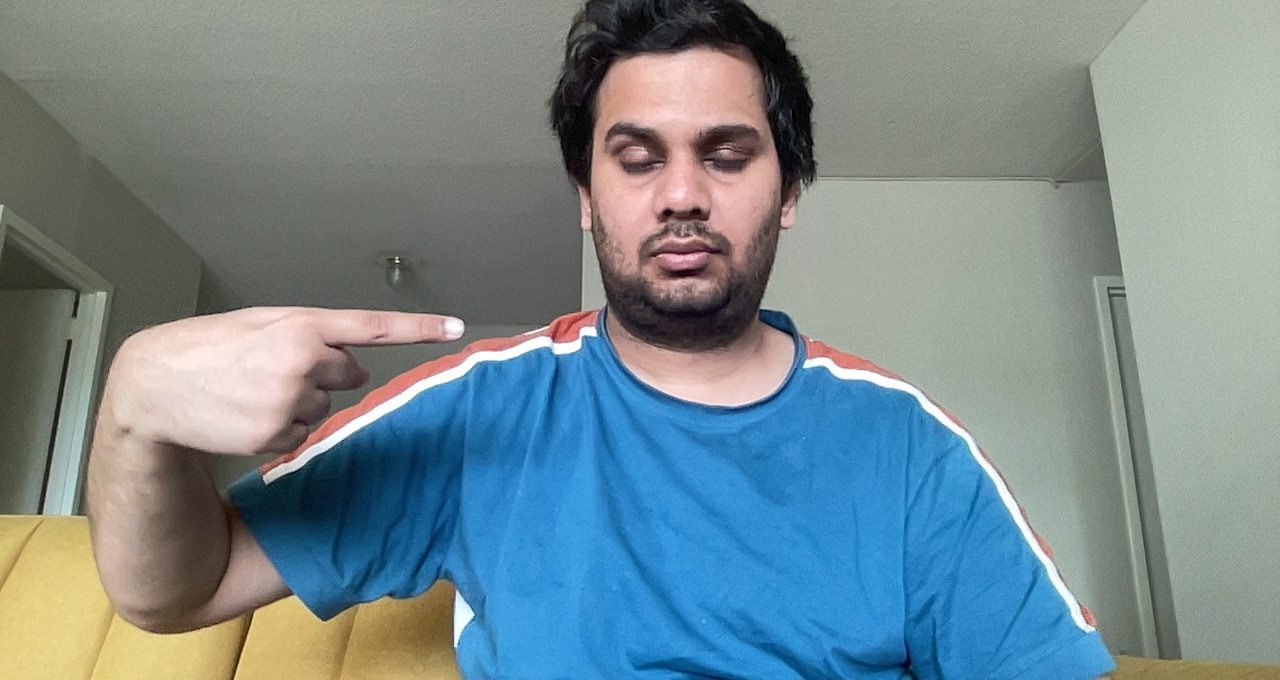fingerleft: (99, 295, 467, 463)
